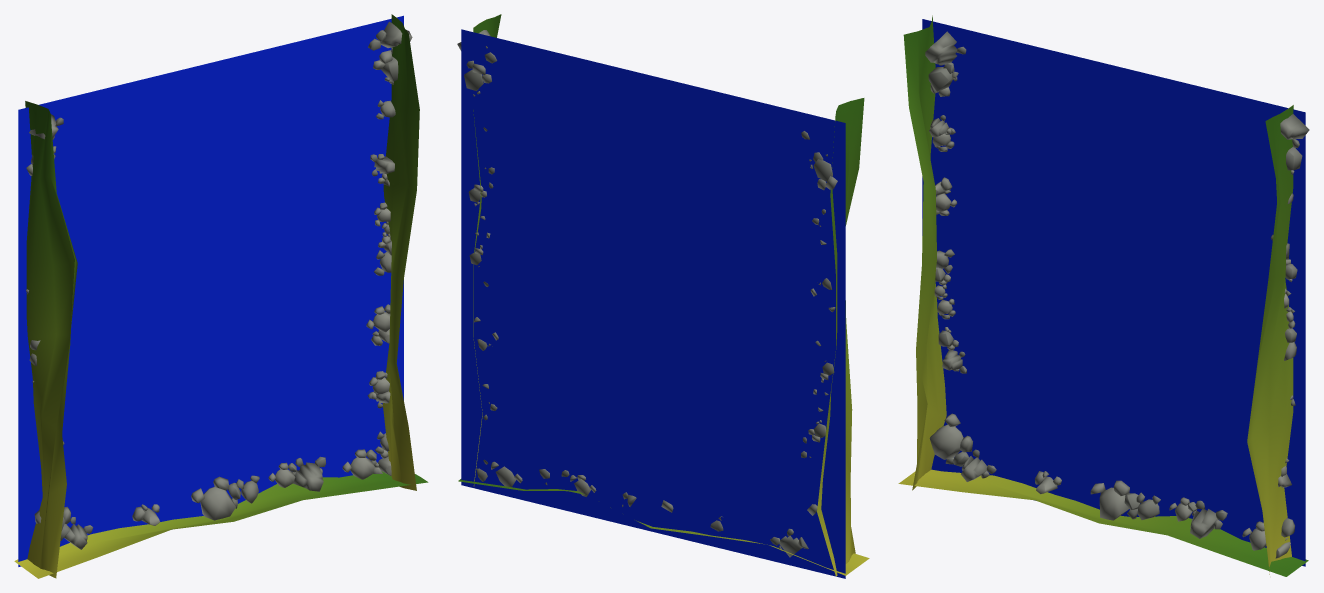
Rendered from MDL_E_LVL_Caves_01.fbx.
3 renders of one model, left to right at view 1: azimuth 30°, elevation 25°; view 2: azimuth 150°, elevation 25°; view 3: azimuth 330°, elevation 25°, orthographic.
Visible parts, largest first — view 1: Plane.021, Wall2, Wall1, Wall3.001, RockClump_D.016, RockClump_A.011, RockClump_D.015, RockClump_A, RockClump_E.002; view 2: Plane.021, Wall2, Wall3.001, Wall1; view 3: Plane.021, Wall1, Wall2, Wall3.001, RockClump_D.004, RockClump_D.016, RockClump_A.007, RockClump_A.011, RockClump_A.010, RockClump_E.005, RockClump_A.
Part boxes in pixels (bbox=[...]): Plane.021: bbox=[18, 15, 403, 566]; Wall2: bbox=[25, 101, 77, 578]; Wall1: bbox=[382, 14, 419, 490]; Wall3.001: bbox=[14, 471, 428, 578]; RockClump_D.016: bbox=[191, 476, 240, 520]; RockClump_A.011: bbox=[293, 456, 326, 491]; RockClump_D.015: bbox=[342, 449, 376, 479]; RockClump_A: bbox=[368, 21, 412, 53]; RockClump_E.002: bbox=[373, 50, 398, 84]; Plane.021: bbox=[461, 29, 845, 578]; Wall2: bbox=[817, 98, 864, 576]; Wall3.001: bbox=[458, 479, 869, 575]; Wall1: bbox=[473, 14, 501, 486]; Plane.021: bbox=[922, 19, 1305, 566]; Wall1: bbox=[1247, 105, 1293, 574]; Wall2: bbox=[903, 15, 946, 490]; Wall3.001: bbox=[898, 469, 1308, 576]; RockClump_D.004: bbox=[929, 413, 972, 466]; RockClump_D.016: bbox=[1090, 480, 1139, 520]; RockClump_A.007: bbox=[925, 31, 966, 73]; RockClump_A.011: bbox=[1190, 500, 1227, 538]; RockClump_A.010: bbox=[961, 449, 996, 481]; RockClump_E.005: bbox=[928, 67, 958, 96]; RockClump_A: bbox=[1280, 114, 1309, 148].
Size of the model in its own units: 3472 by 3915 by 502.
